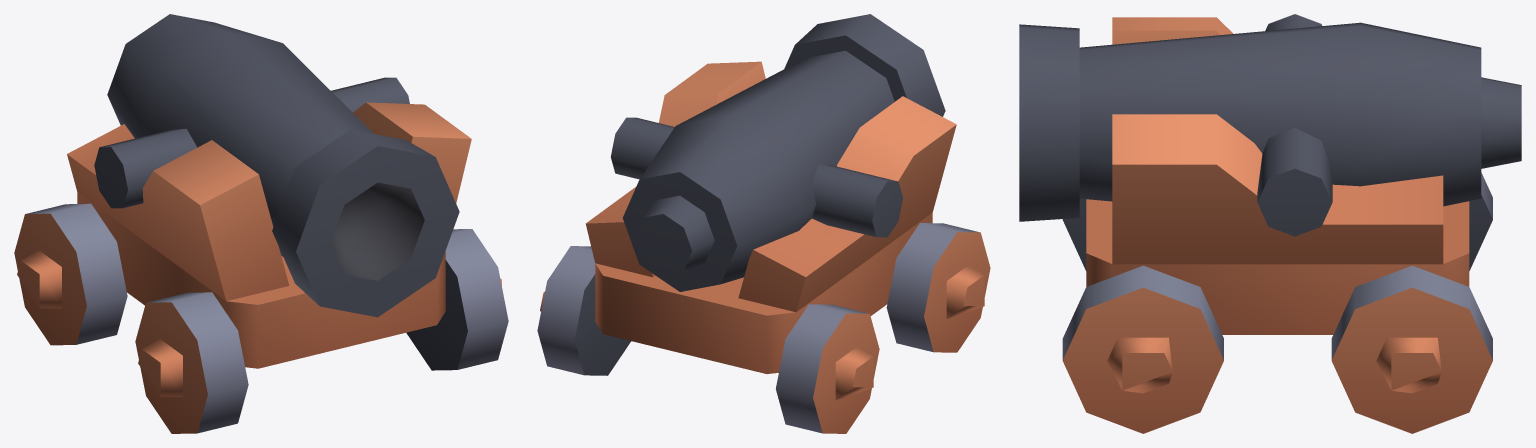
Rendered from cc0-cannon-mobile-lod1.glb.
The picture shows the model from 3 angles, left to right: view 1: azimuth 30°, elevation 25°; view 2: azimuth 150°, elevation 25°; view 3: azimuth 270°, elevation 25°; orthographic projection. The views are drawn at different scales.
Parts seen in each view (by area): view 1: part_0; view 2: part_0; view 3: part_0.
Boxes of the visible parts, x1,y1,x2,y2 form: part_0: (14,14,508,433); part_0: (537,14,990,433); part_0: (1019,14,1521,433).
Bounding box in the file's own units: 1.68 × 1.38 × 1.92.
Materials: 1 (1 with a texture image).
